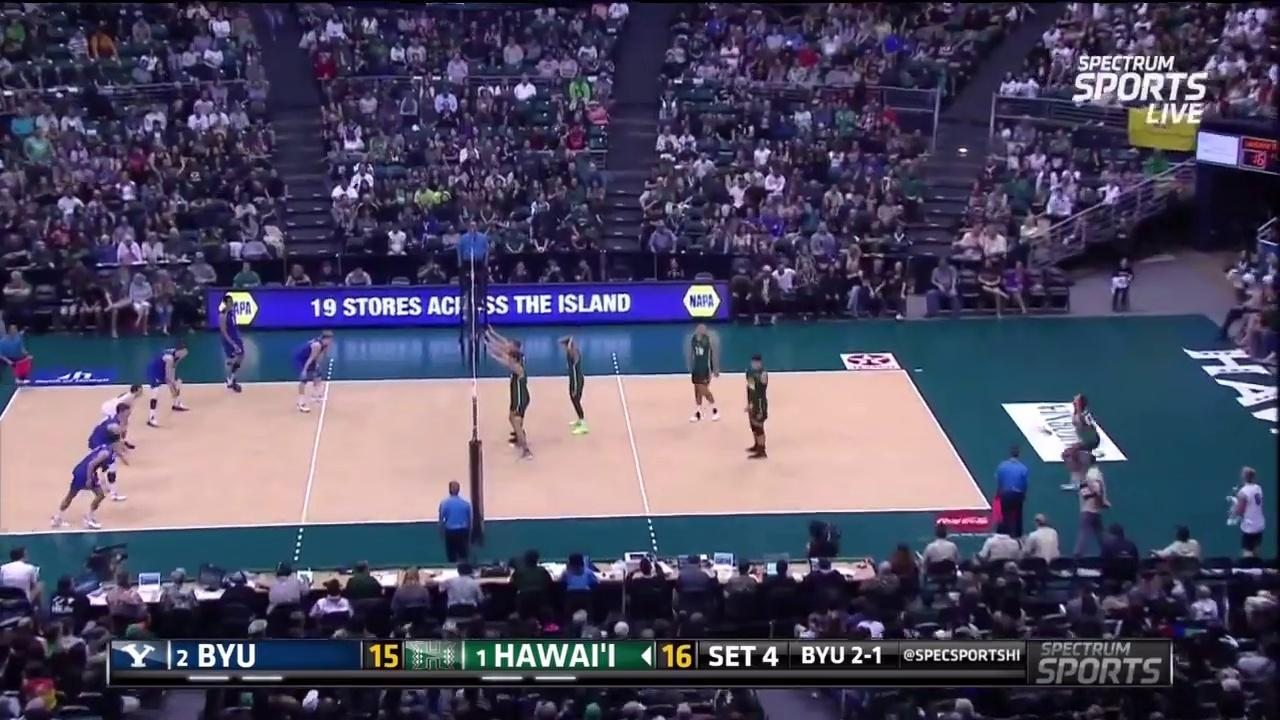player: (61, 432, 121, 536), (87, 399, 137, 502), (496, 352, 539, 466), (144, 331, 196, 423), (1057, 389, 1104, 489), (99, 381, 145, 454), (294, 330, 332, 414), (504, 332, 530, 451), (558, 334, 587, 439), (688, 324, 720, 419), (217, 293, 246, 396), (742, 350, 770, 456)
refree: (432, 478, 475, 559), (457, 219, 494, 306), (0, 321, 36, 386)
